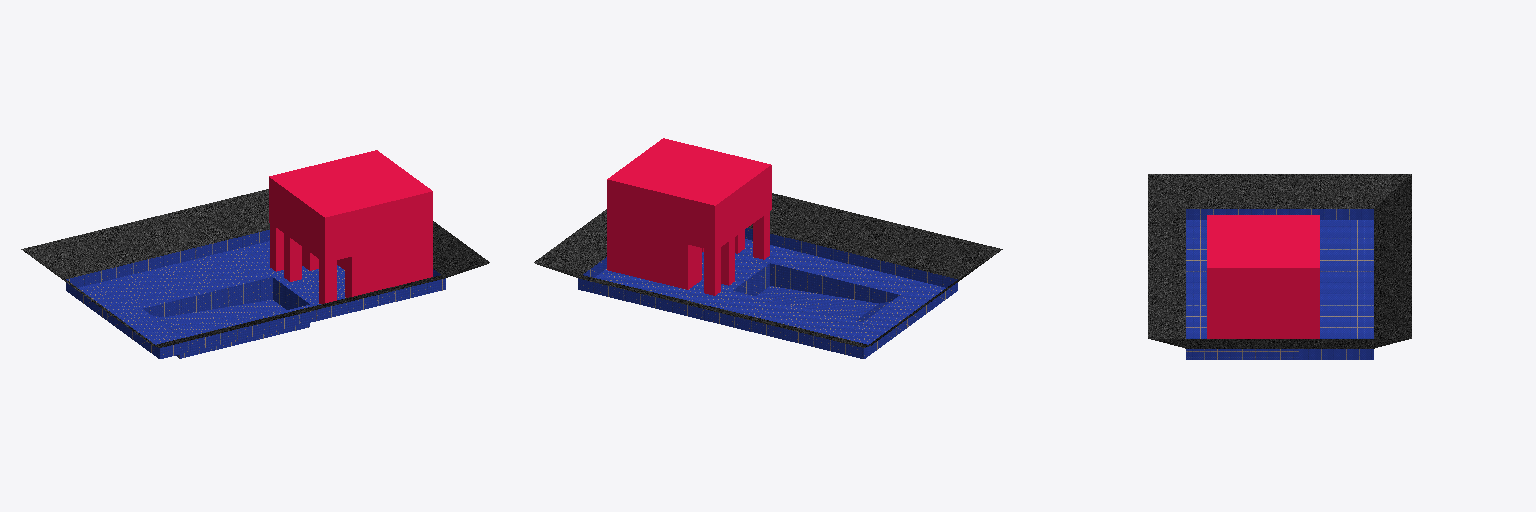
3 renders of one model, left to right at view 1: azimuth 30°, elevation 25°; view 2: azimuth 150°, elevation 25°; view 3: azimuth 270°, elevation 25°, orthographic.
Parts seen in each view (by area): view 1: Plane, Cube_Cube.001; view 2: Plane, Cube_Cube.001; view 3: Plane, Cube_Cube.001.
Part boxes in pixels (x1,y1,x2,y2): Plane: (21, 189, 489, 358); Cube_Cube.001: (269, 150, 432, 303); Plane: (534, 193, 1002, 358); Cube_Cube.001: (607, 138, 771, 295); Plane: (1148, 174, 1411, 359); Cube_Cube.001: (1207, 215, 1319, 338).
Size of the model in its own units: 31.2 by 10.02 by 21.
Materials: 3 (2 with a texture image).